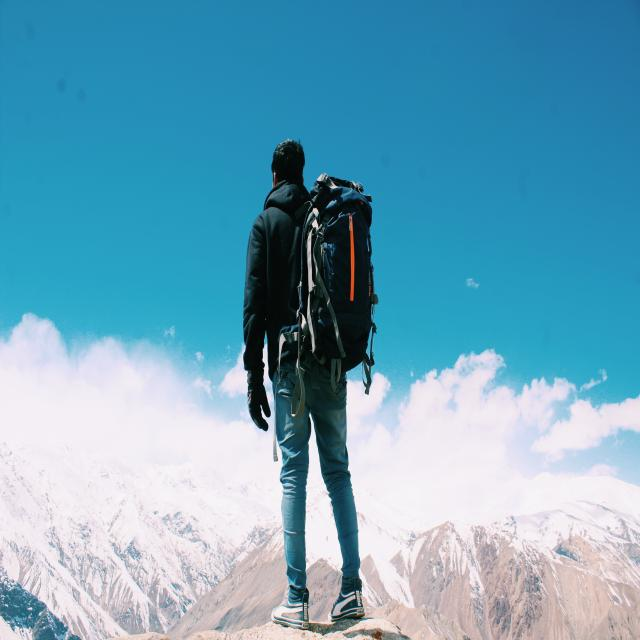backpack: (288, 177, 377, 376)
